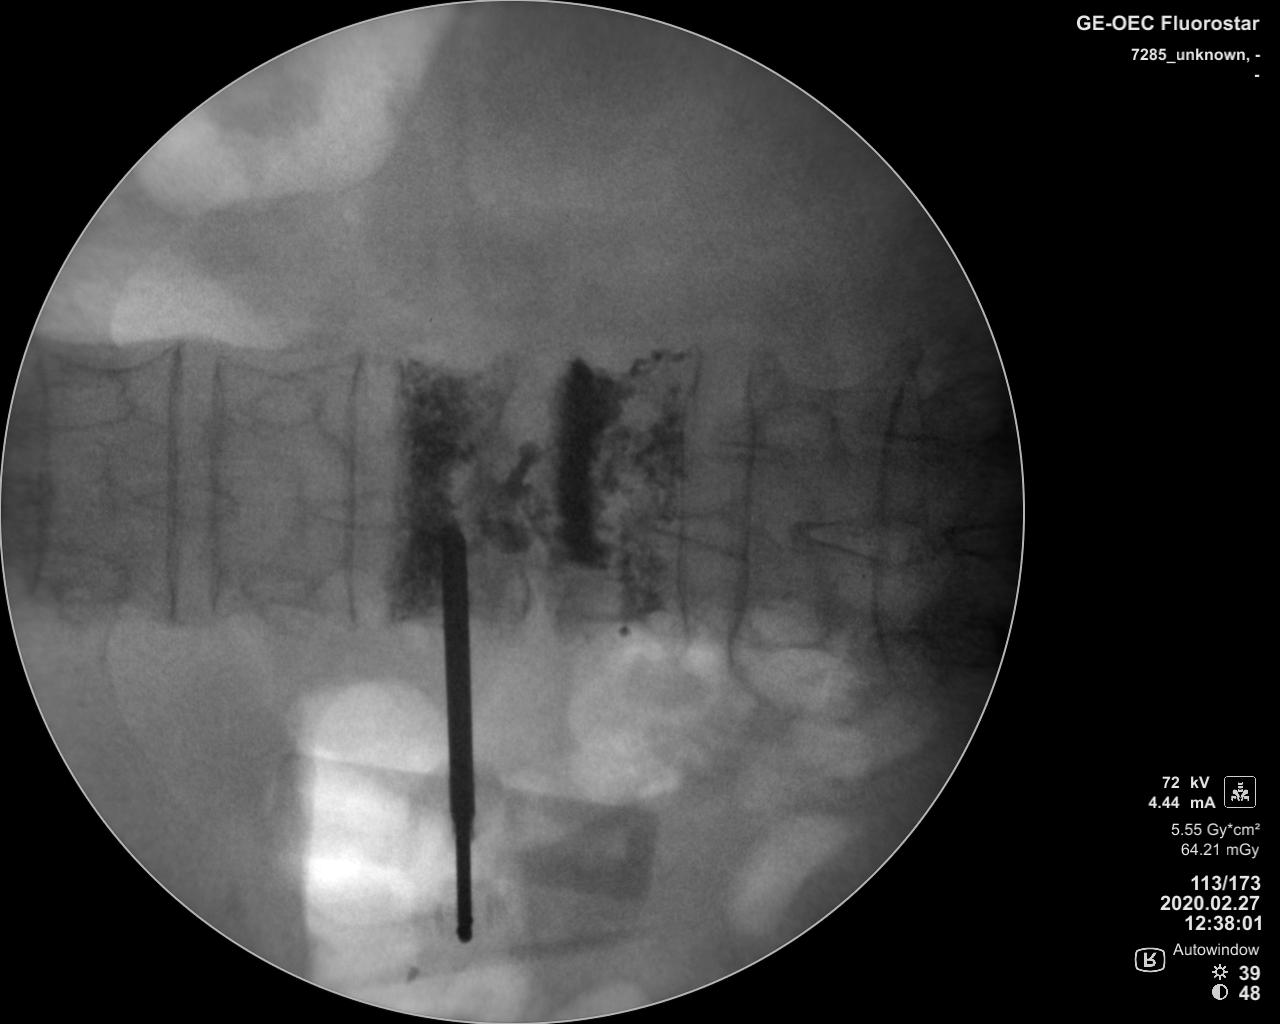eyes: (36, 368, 135, 430), (37, 549, 138, 608), (235, 368, 328, 433), (750, 398, 842, 457), (743, 591, 831, 652), (239, 561, 318, 610)
line: (870, 367, 913, 704), (724, 355, 759, 672), (673, 343, 703, 643), (342, 342, 369, 638), (30, 344, 57, 612), (164, 339, 187, 631), (206, 349, 227, 620)
nose: (636, 506, 785, 565), (794, 512, 942, 572), (126, 482, 241, 527), (306, 490, 410, 534), (946, 521, 1021, 567)
